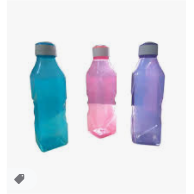Bottle: (30, 42, 69, 149), (130, 44, 163, 147), (85, 45, 119, 138)
